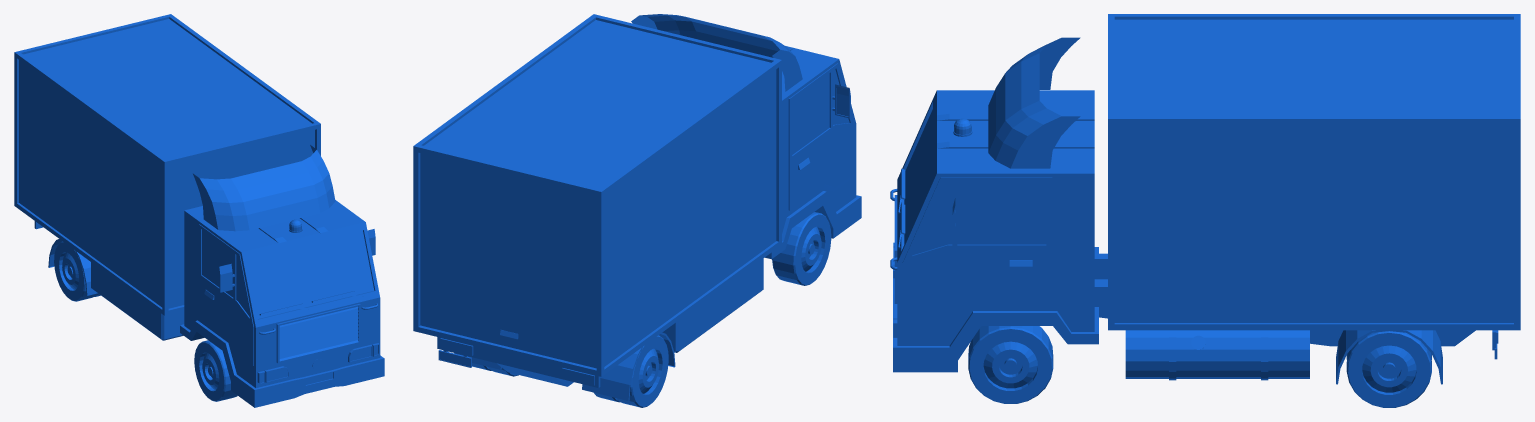
File: new_truck.glb
The picture shows the model from 3 angles, left to right: view 1: azimuth 30°, elevation 25°; view 2: azimuth 150°, elevation 25°; view 3: azimuth 270°, elevation 25°; orthographic projection. The views are drawn at different scales.
Visible parts, largest first — view 1: 1; view 2: 1; view 3: 1.
Part boxes in pixels (x1,y1,x2,y2): 1: (14,14,384,407); 1: (413,14,861,407); 1: (890,14,1520,407).
Bounding box in the file's own units: 20.11 × 26.13 × 50.76.
